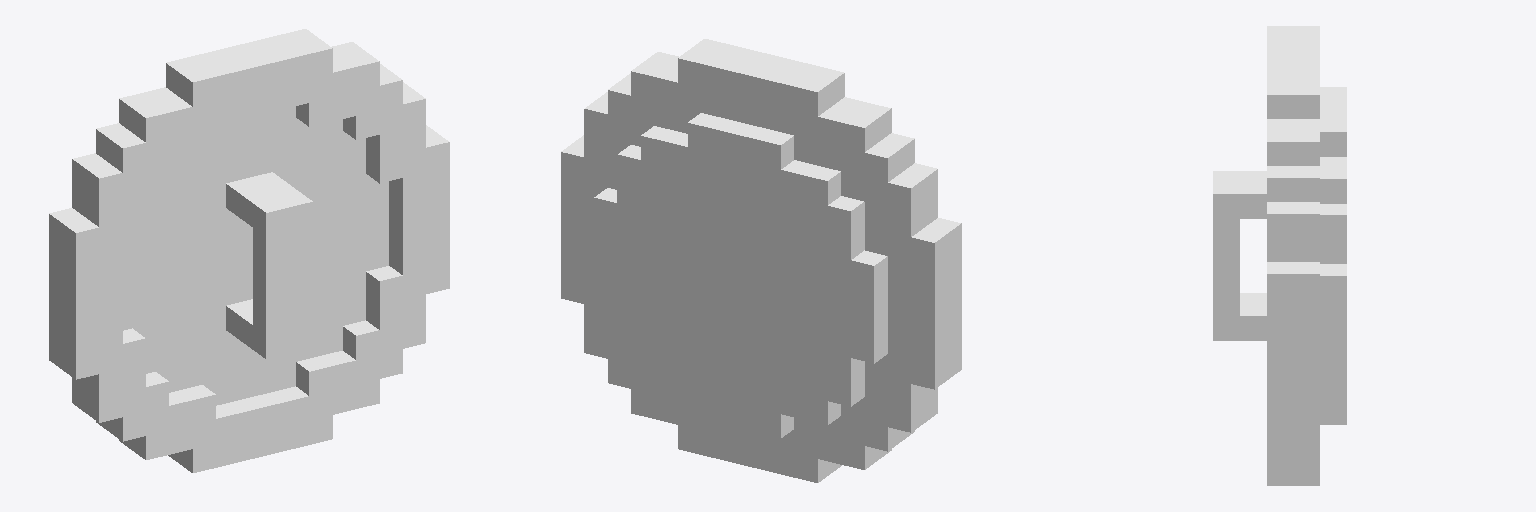
The model's file is shieldCircle.vox.obj.
3 renders of one model, left to right at view 1: azimuth 30°, elevation 25°; view 2: azimuth 150°, elevation 25°; view 3: azimuth 270°, elevation 25°, orthographic.
Parts seen in each view (by area): view 1: object 1; view 2: object 1; view 3: object 1.
Part boxes in pixels (left/top/right/bottom): object 1: left=49, top=29, right=449, bottom=472; object 1: left=561, top=39, right=961, bottom=482; object 1: left=1213, top=26, right=1346, bottom=485.
Size of the model in its own units: 1.6 by 1.6 by 0.5.